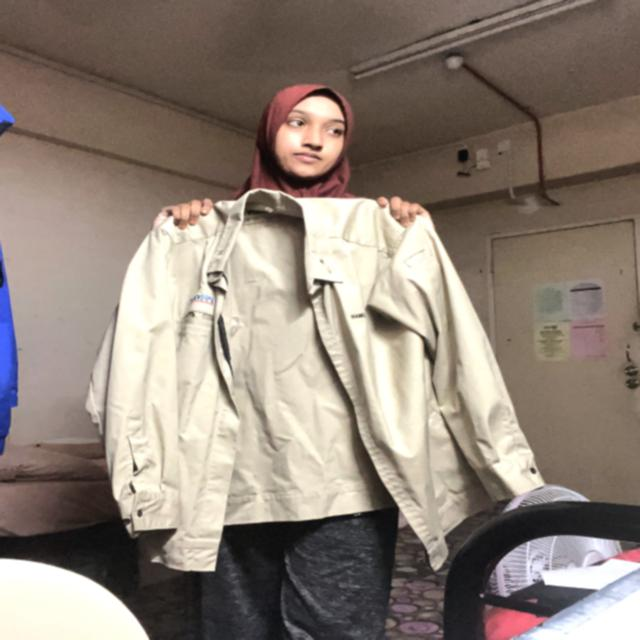person_without_labcoat: (88, 84, 544, 640)
